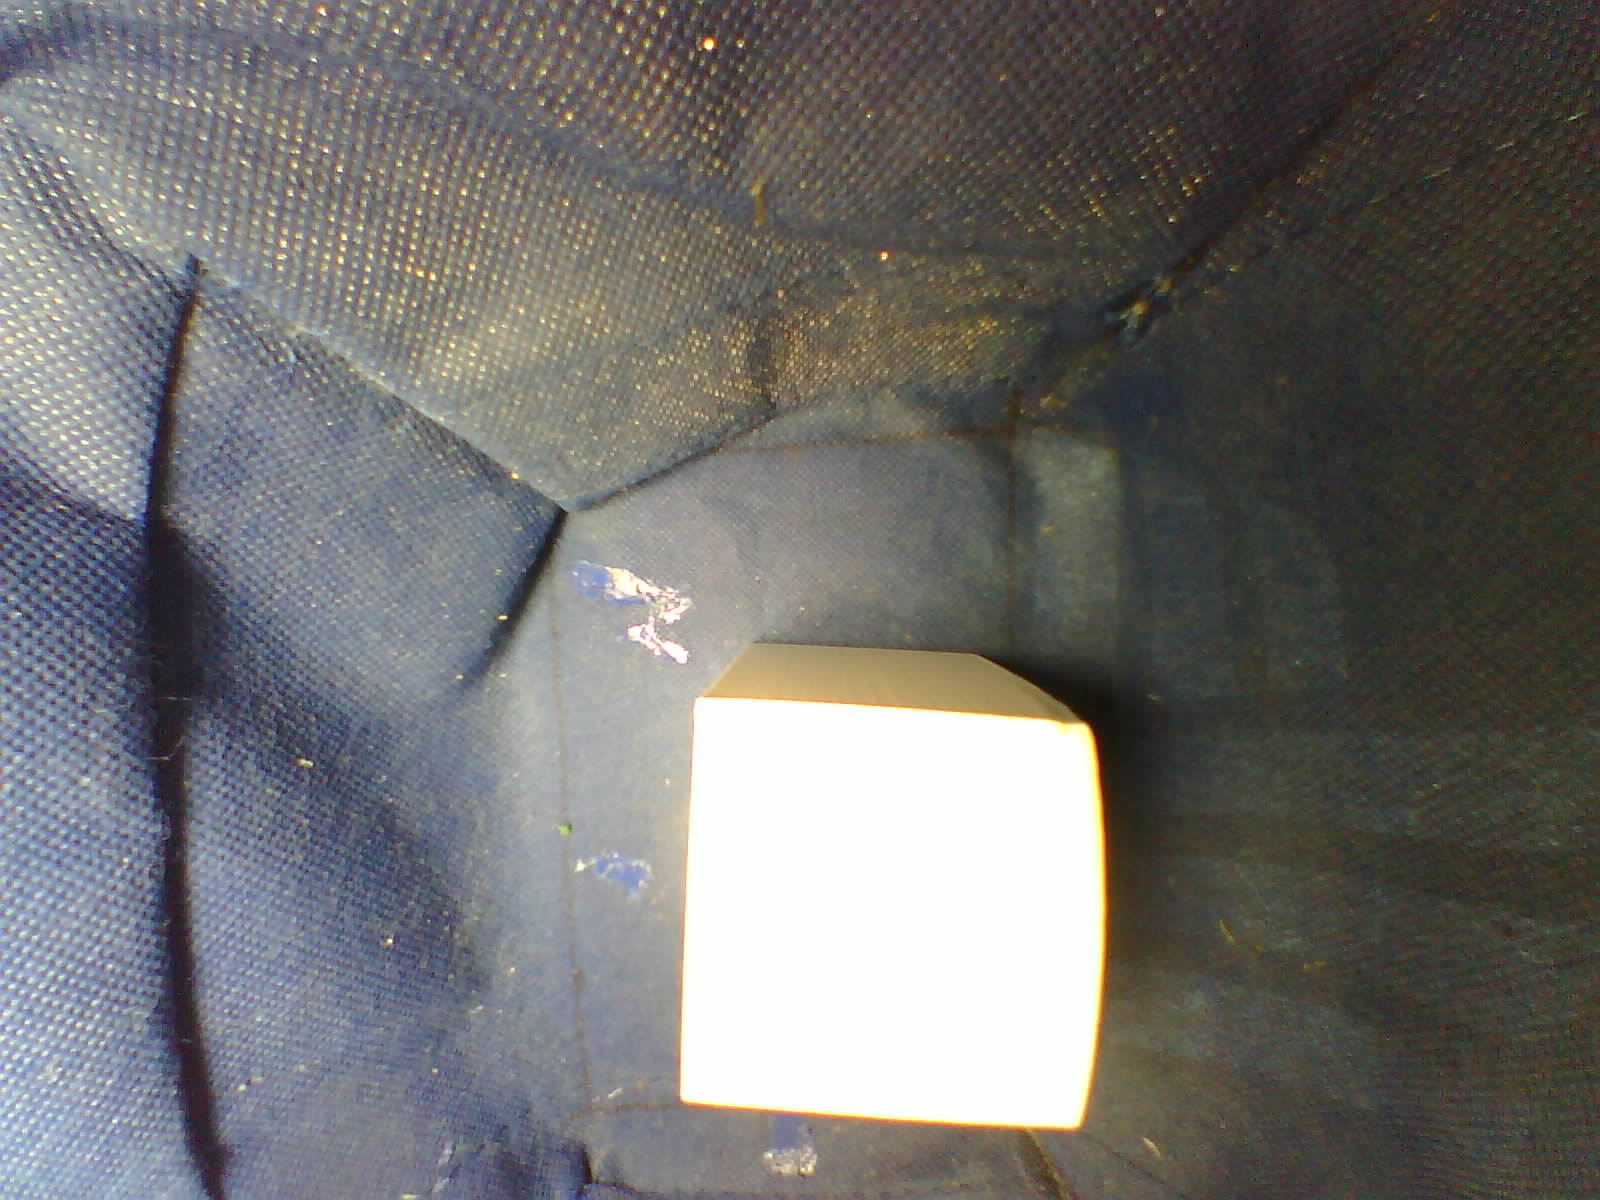cube-hard: (668, 618, 1115, 1155)
